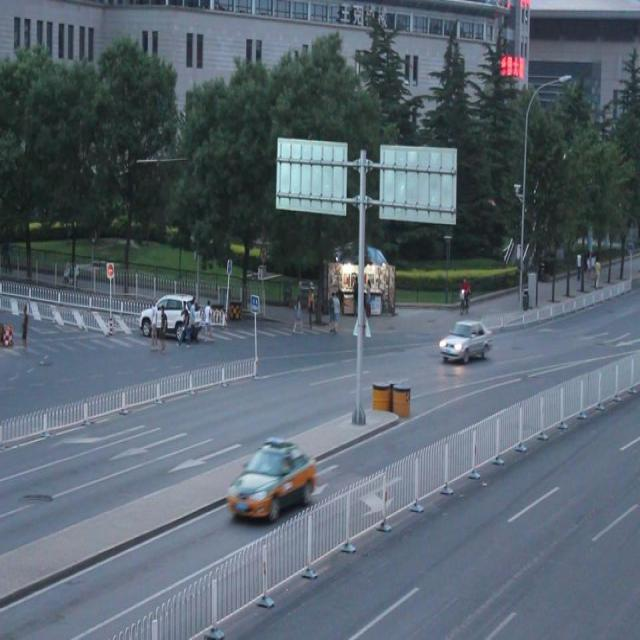car: (228, 436, 316, 523), (139, 292, 202, 341), (437, 319, 491, 359)
